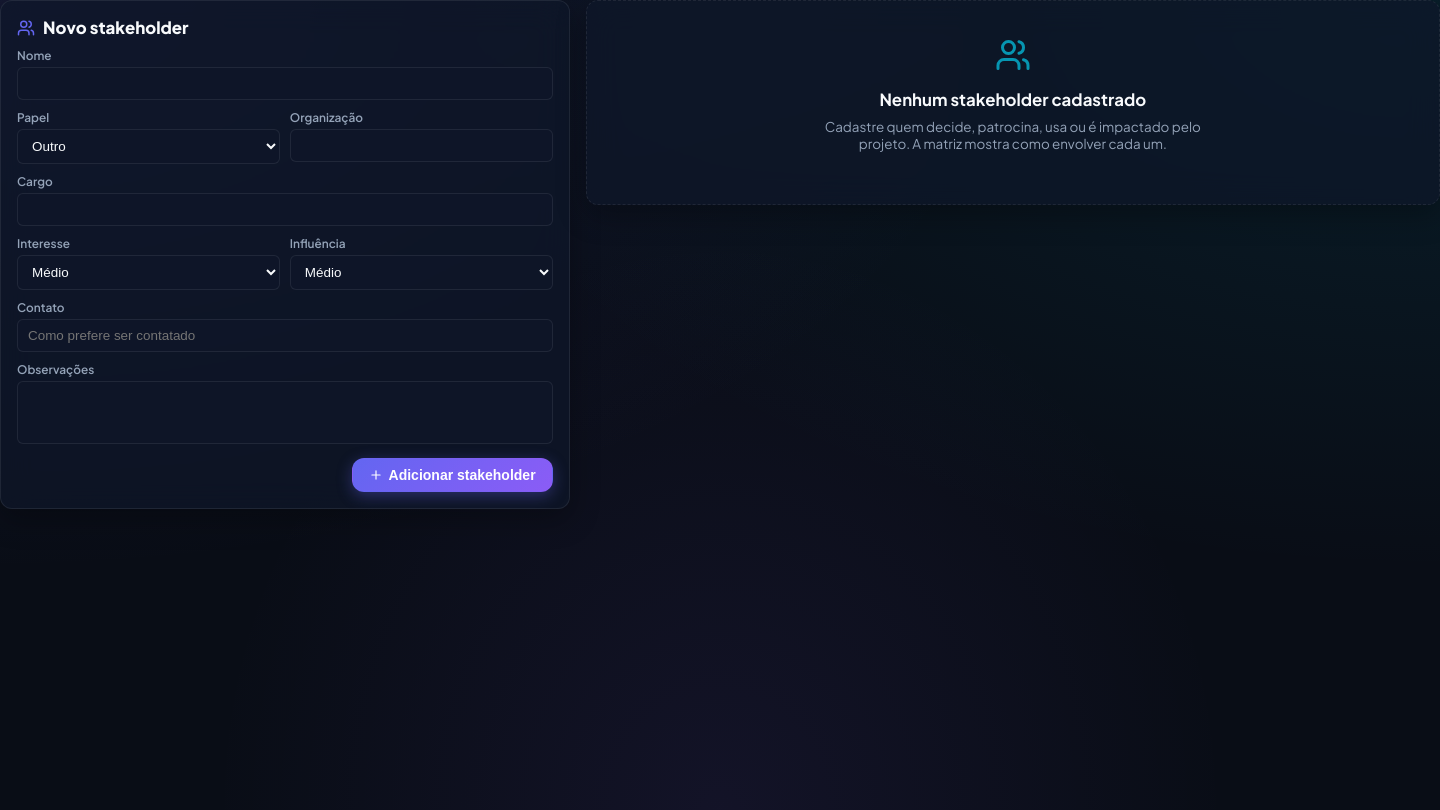
Test: StakeholdersView: sem ninguém cadastrado › recusa nome vazio, mostra o motivo e não cadastra
This screenshot has width=1440, height=810.
Click the button "Adicionar stakeholder" at (452, 475), box [352, 458, 552, 492]
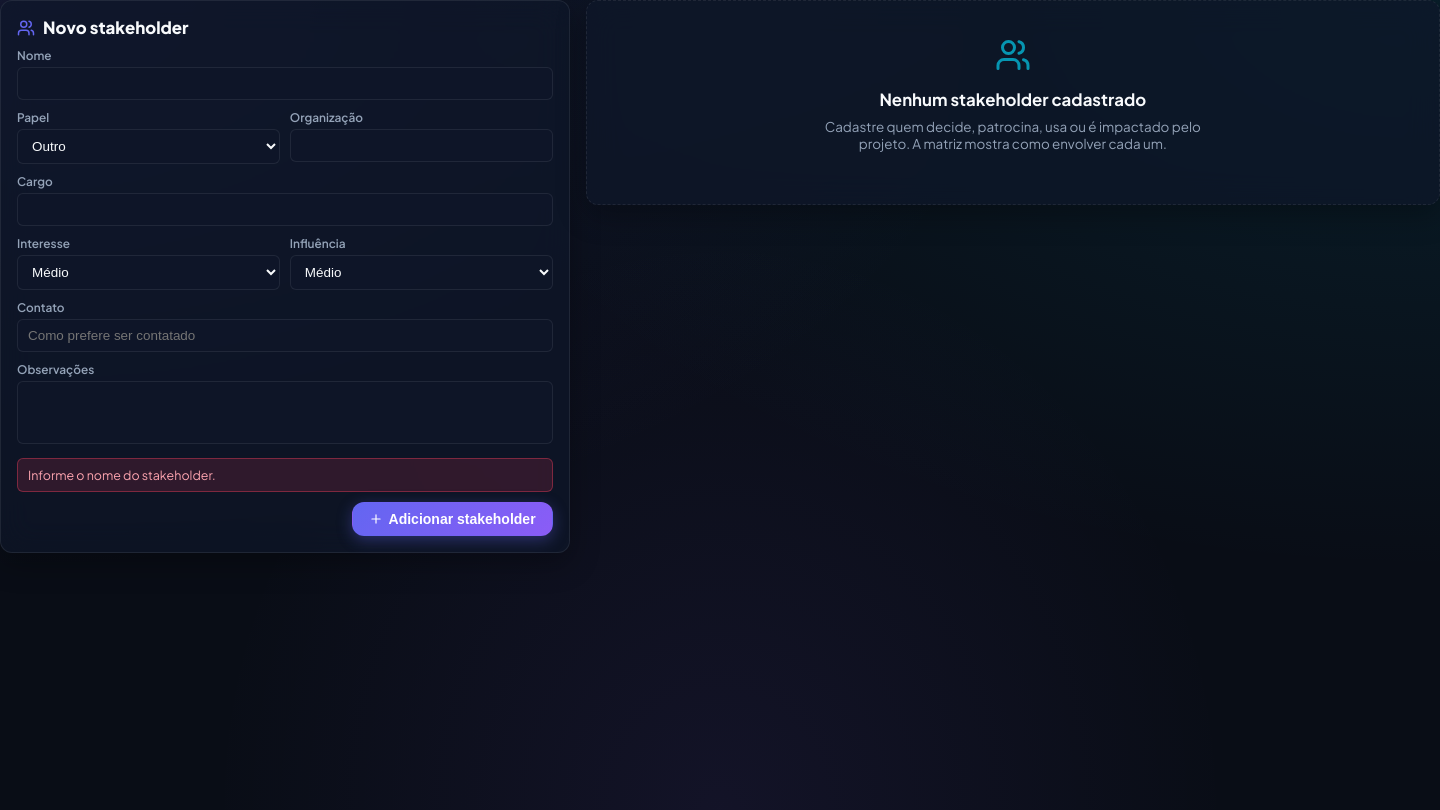
Result: the message shows "nome" at [28, 467, 216, 483]
